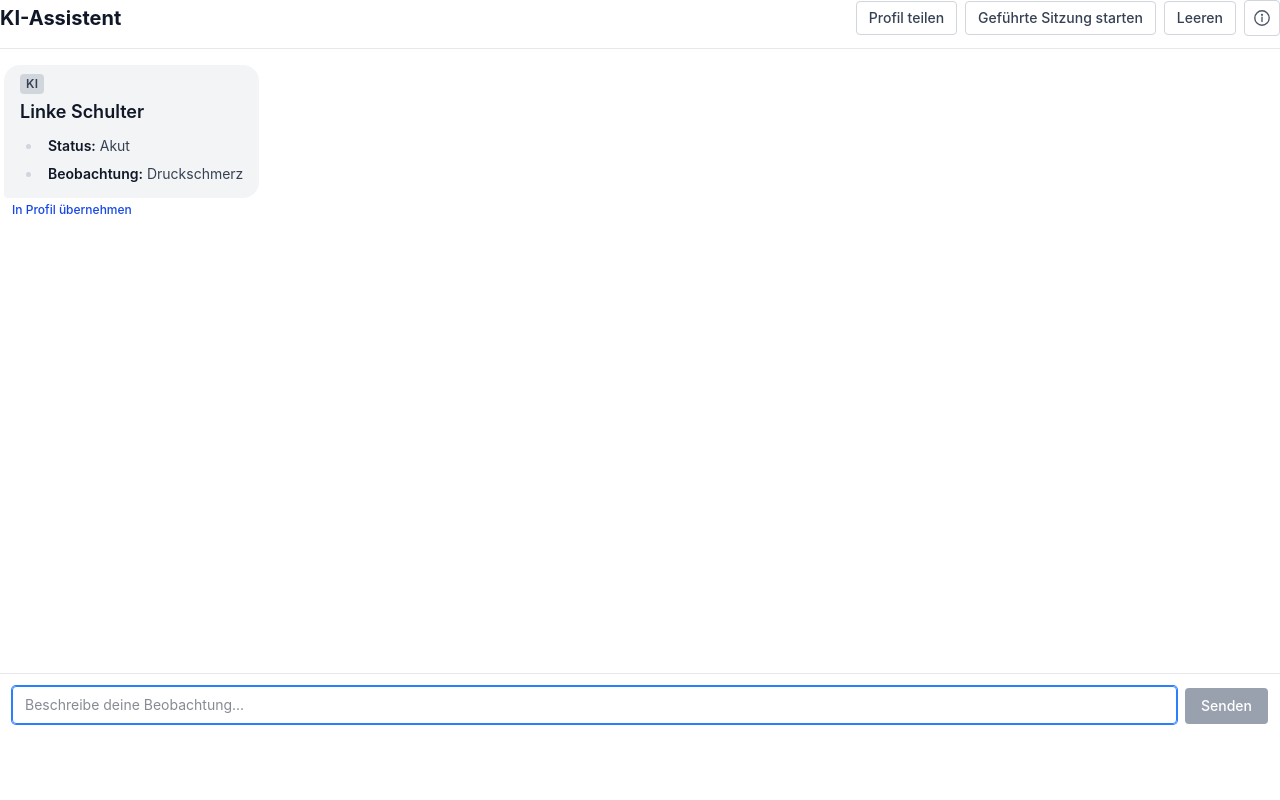
Test case: ChatView › clicking "In Profil übernehmen" on an assistant message opens the preview modal
The width and height of the screenshot is (1280, 800).
Click the button with test id "commit-preview-button". click: (72, 210)
box: [12, 202, 132, 218]
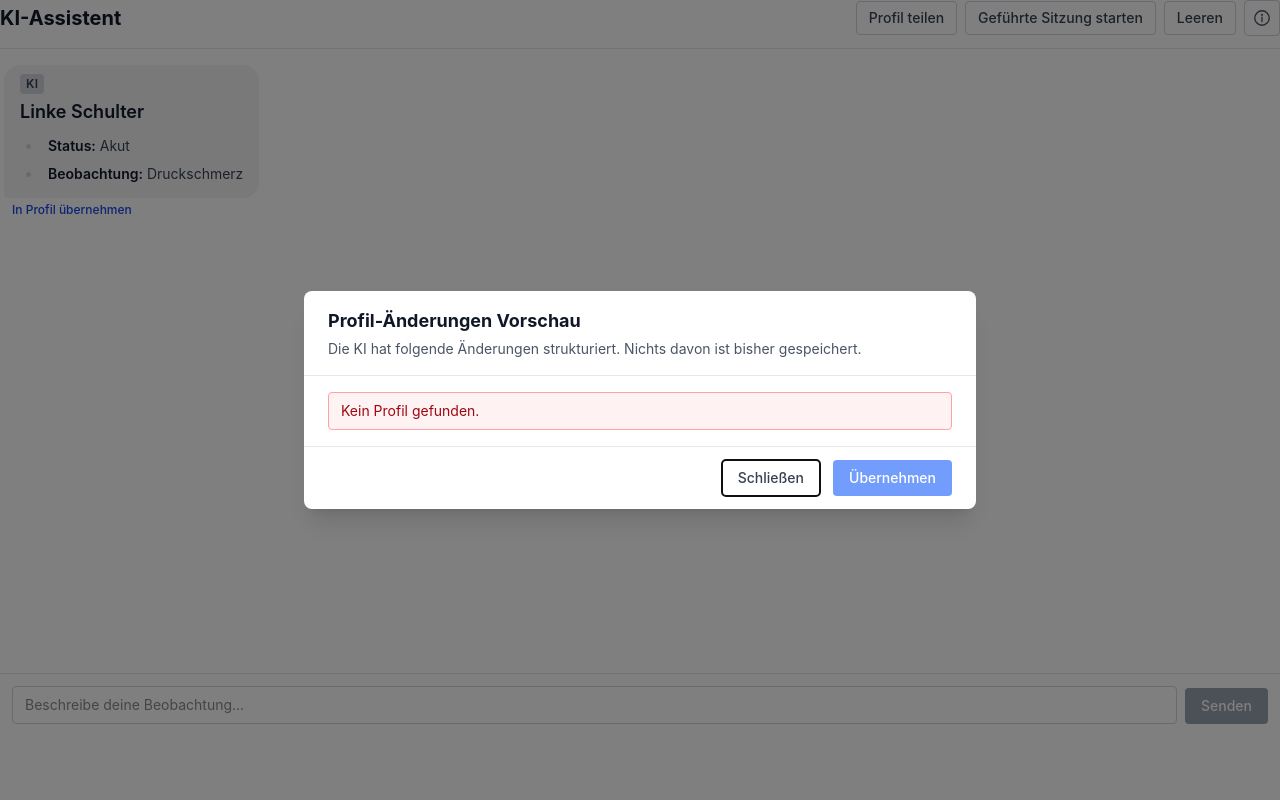
Now the heading "Profil-Änderungen Vorschau" is shown, box [328, 310, 581, 331]
Click the button "Schließen". click: (771, 478)
box: [721, 459, 821, 497]
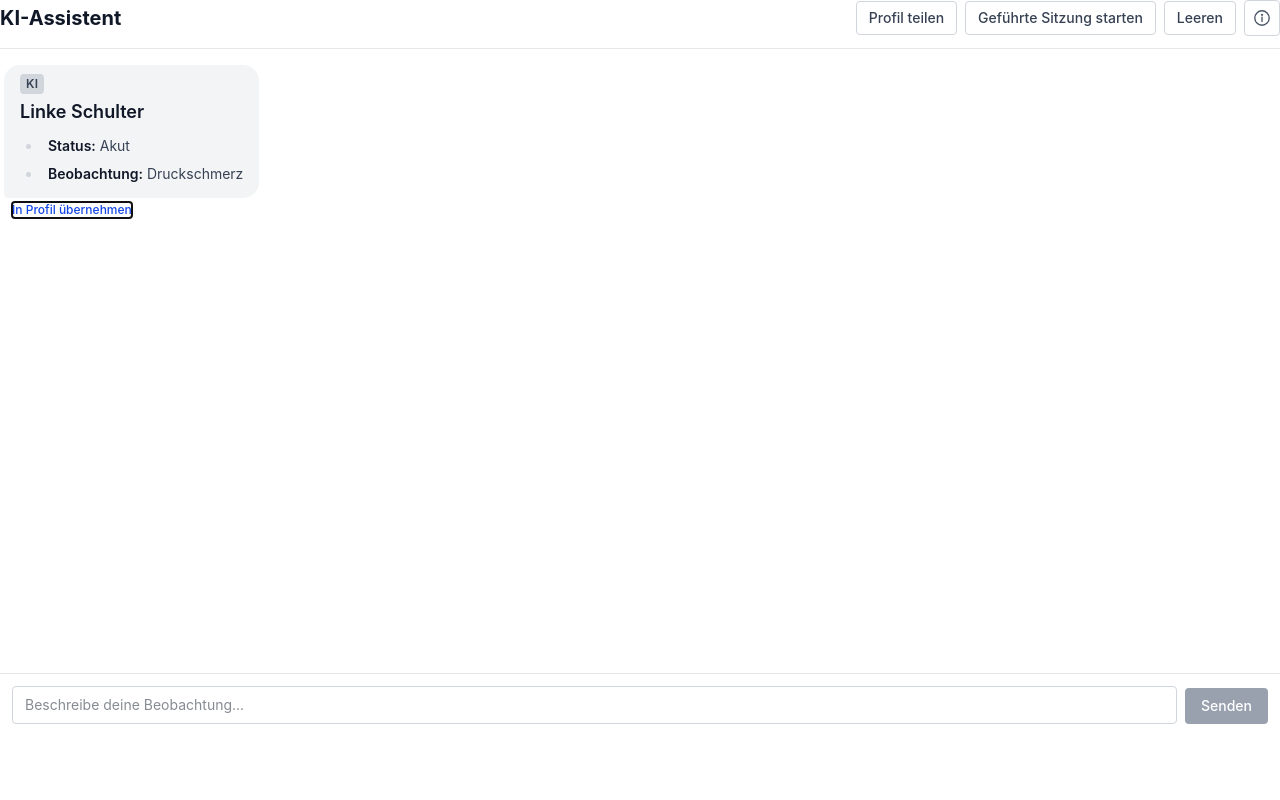
Now the dialog is gone
